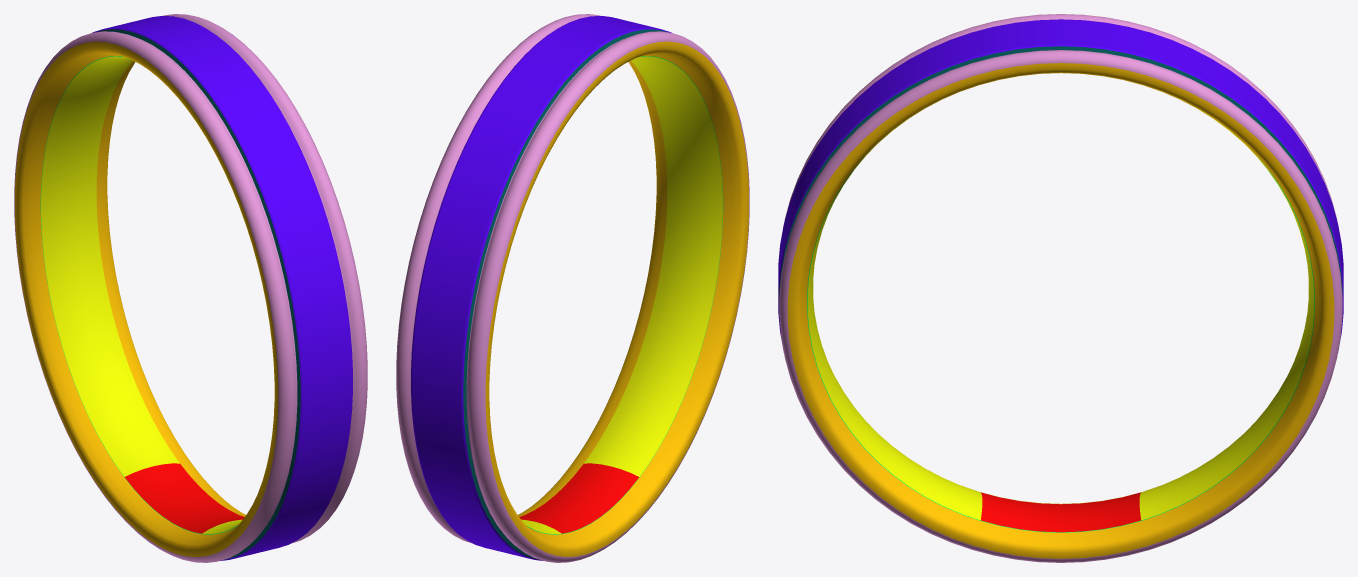
3 renders of one model, left to right at view 1: azimuth 30°, elevation 25°; view 2: azimuth 150°, elevation 25°; view 3: azimuth 270°, elevation 25°, orthographic. The views are drawn at different scales.
Parts seen in each view (by area): view 1: IN1036; view 2: IN1036; view 3: IN1036.
Part boxes in pixels (x1,y1,x2,y2): IN1036: (14,14,367,562); IN1036: (396,14,749,562); IN1036: (778,14,1343,562).
Bounding box in the file's own units: 0.004 × 0.0213 × 0.0213.
